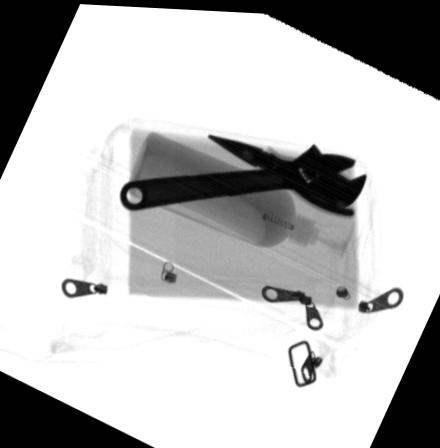Pliers: (207, 134, 359, 212)
Wrench: (118, 139, 366, 211)
